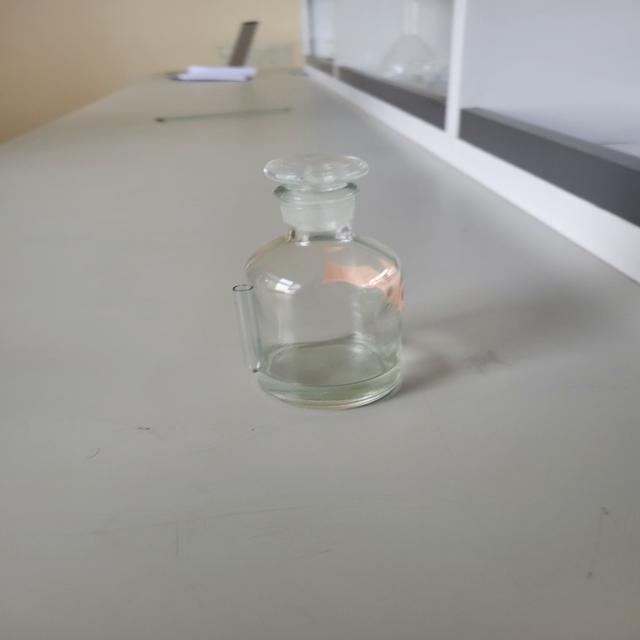Reagent_Bottle: (176, 110, 470, 429)
